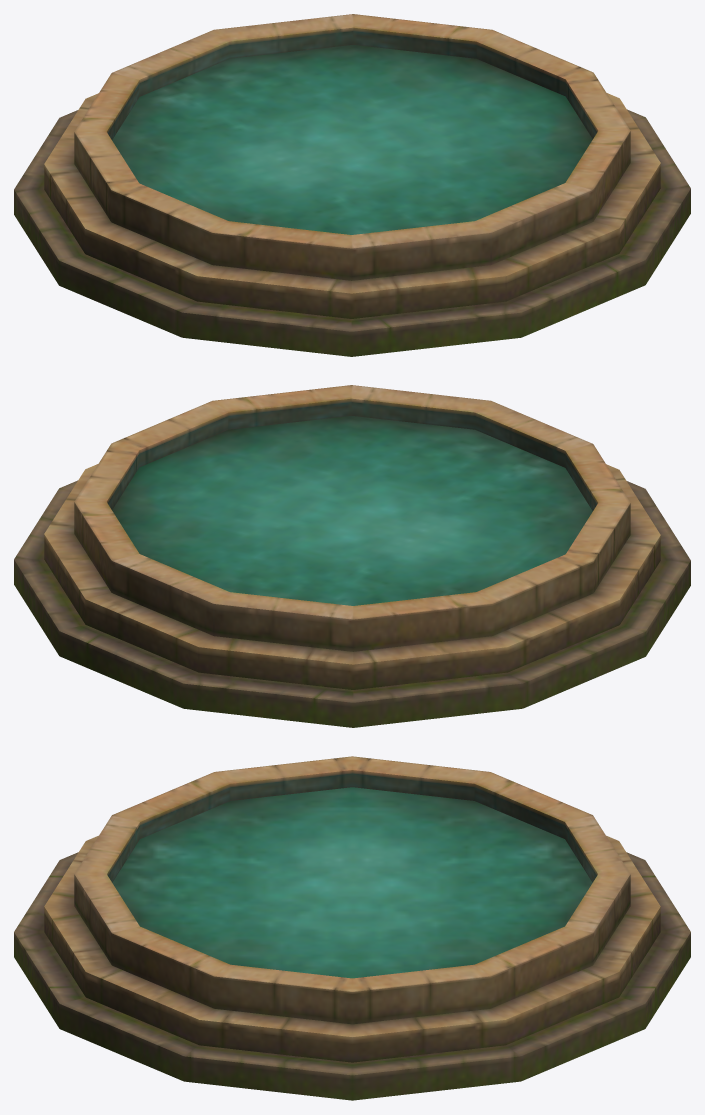
The model's file is zc_lekesigang_shuichi02.FBX.
3 views of the same model, one above another, from view 1: azimuth 30°, elevation 25°; view 2: azimuth 150°, elevation 25°; view 3: azimuth 270°, elevation 25° (orthographic).
Parts seen in each view (by area): view 1: zc_lekesigang_shuichi02; view 2: zc_lekesigang_shuichi02; view 3: zc_lekesigang_shuichi02.
Part boxes in pixels (x1=…): zc_lekesigang_shuichi02: x1=14, y1=14, x2=690, y2=356; zc_lekesigang_shuichi02: x1=14, y1=385, x2=690, y2=727; zc_lekesigang_shuichi02: x1=14, y1=756, x2=690, y2=1100.
Bounding box in the file's own units: 537 × 72.4 × 536.
1 material, 1 textured.
